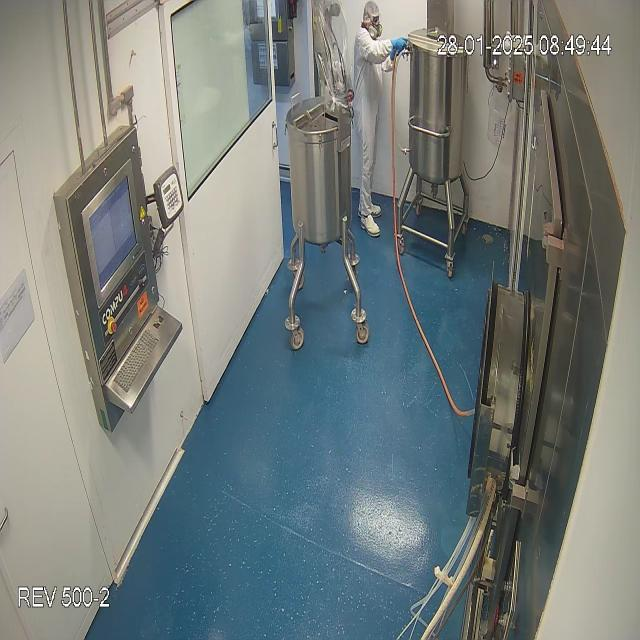bota: (359, 196, 383, 241)
pessoa: (350, 3, 408, 239)
touca: (359, 0, 386, 30)
